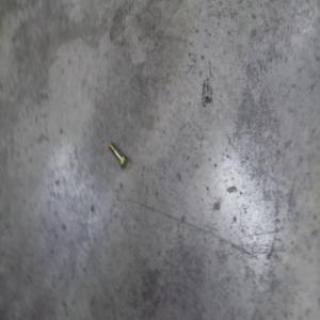Bolttrack_idkeyframe: (107, 140, 128, 170)
